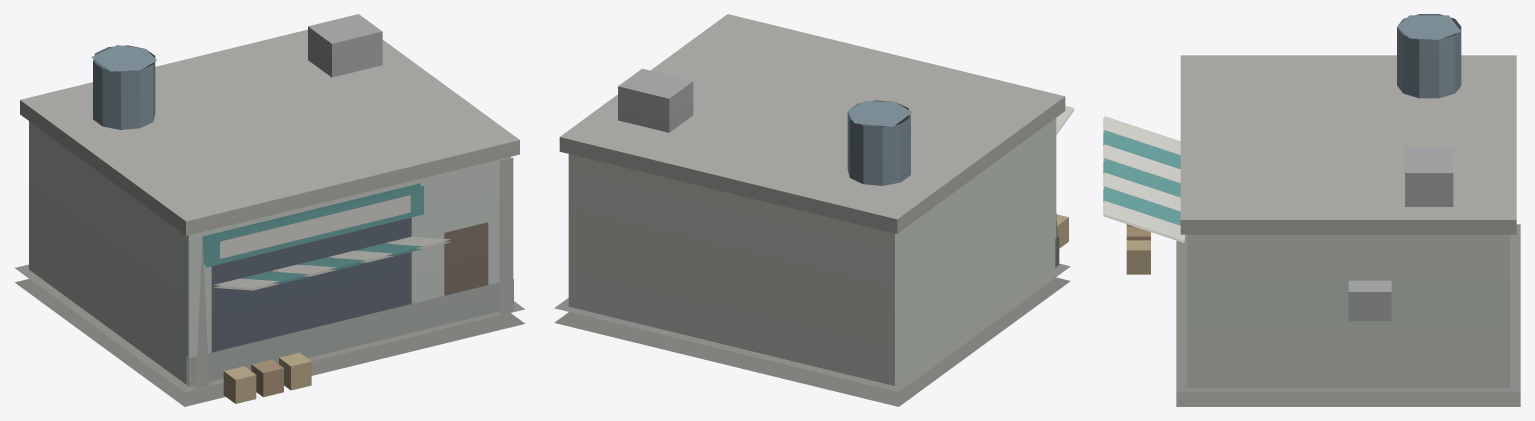
Rendered from sv_shop_b.lod.glb.
3 views of the same model, side by side, from view 1: azimuth 30°, elevation 25°; view 2: azimuth 150°, elevation 25°; view 3: azimuth 270°, elevation 25° (orthographic).
Visible parts, largest first — view 1: sv_shop_b; view 2: sv_shop_b; view 3: sv_shop_b.
Boxes of the visible parts, x1=… form: sv_shop_b: x1=15, y1=14, x2=524, y2=406; sv_shop_b: x1=554, y1=14, x2=1074, y2=406; sv_shop_b: x1=1103, y1=14, x2=1520, y2=406.
Size of the model in its own units: 7.7 by 5 by 7.76.
